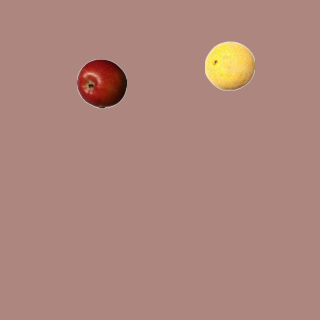Apple Braeburn: (76, 58, 126, 108)
Cantaloupe 1: (204, 40, 254, 90)
